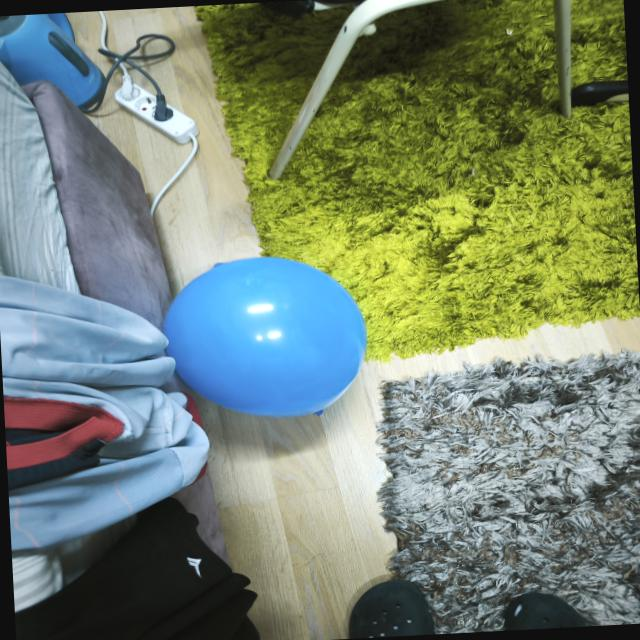balloon: (164, 257, 367, 417)
